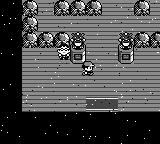leer: (118, 32, 134, 64), (72, 32, 86, 64)
main: (82, 61, 95, 76)
no-caminable: (1, 0, 160, 143), (22, 0, 70, 46), (54, 1, 101, 16), (134, 33, 160, 47), (134, 1, 151, 16)
npc: (56, 46, 70, 60)
puerta: (82, 94, 123, 112)
